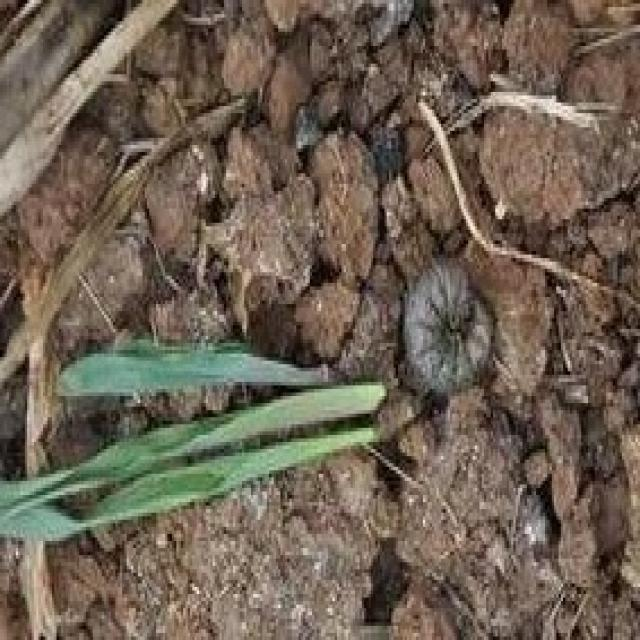black cutworm: (397, 259, 501, 394)
